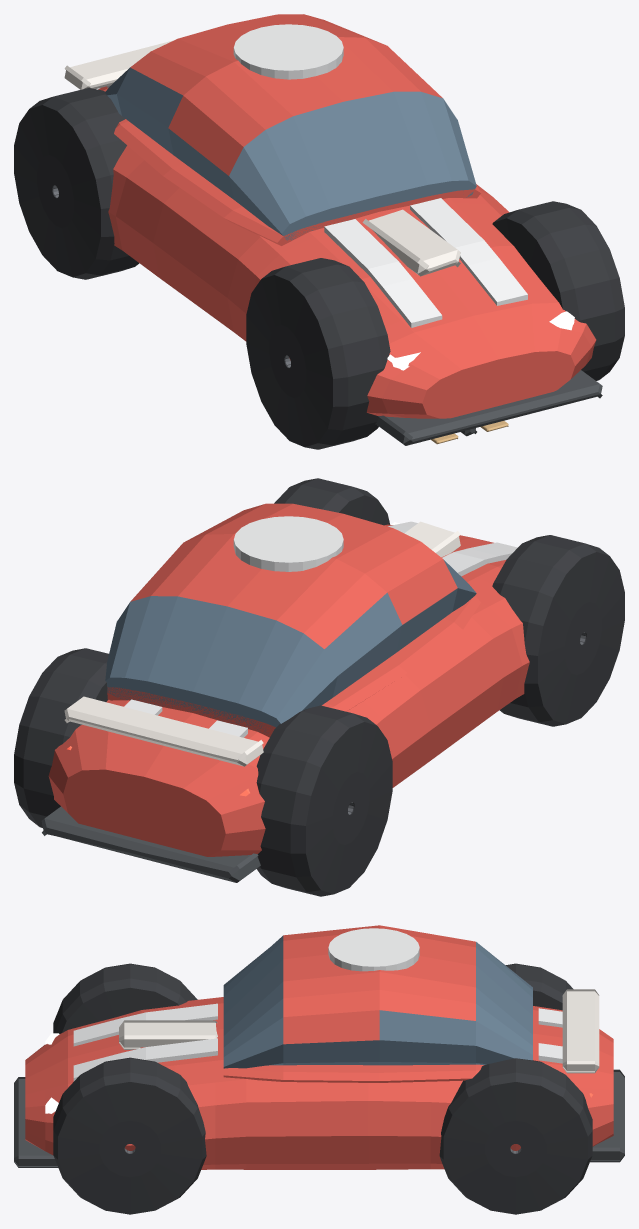
Rendered from toy-car-starter.glb.
3 views of the same model, one above another, from view 1: azimuth 30°, elevation 25°; view 2: azimuth 150°, elevation 25°; view 3: azimuth 270°, elevation 25° (orthographic). The views are drawn at different scales.
Visible parts, largest first — view 1: toy-car-starter-canopy, toy-car-starter-body, wheel-front-left, wheel-rear-left, wheel-front-right, toy-car-starter-beltline, toy-car-starter-glyph, toy-car-starter-splitter, toy-car-starter-stripe-hood-left, toy-car-starter-stripe-hood-right, toy-car-starter-hood-scoop, toy-car-starter-lip-spoiler; view 2: toy-car-starter-canopy, toy-car-starter-body, wheel-rear-left, wheel-front-left, wheel-rear-right, toy-car-starter-beltline, toy-car-starter-lip-spoiler, toy-car-starter-glyph, toy-car-starter-diffuser, wheel-front-right, toy-car-starter-stripe-hood-left, toy-car-starter-hood-scoop; view 3: toy-car-starter-canopy, toy-car-starter-body, wheel-front-right, wheel-rear-right, wheel-front-left, toy-car-starter-beltline, toy-car-starter-glyph, toy-car-starter-lip-spoiler, toy-car-starter-hood-scoop, toy-car-starter-stripe-hood-left, toy-car-starter-stripe-hood-right, toy-car-starter-splitter (+4 smaller).
Boxes of the visible parts, left/top/right/bottom form: toy-car-starter-canopy: left=105, top=14, right=476, bottom=240; toy-car-starter-body: left=98, top=86, right=596, bottom=418; wheel-front-left: left=246, top=258, right=390, bottom=449; wheel-rear-left: left=14, top=88, right=139, bottom=279; wheel-front-right: left=492, top=201, right=624, bottom=380; toy-car-starter-beltline: left=114, top=119, right=480, bottom=245; toy-car-starter-glyph: left=233, top=24, right=343, bottom=79; toy-car-starter-splitter: left=375, top=370, right=602, bottom=445; toy-car-starter-stripe-hood-left: left=324, top=219, right=442, bottom=327; toy-car-starter-stripe-hood-right: left=410, top=198, right=527, bottom=305; toy-car-starter-hood-scoop: left=362, top=209, right=460, bottom=276; toy-car-starter-lip-spoiler: left=64, top=40, right=173, bottom=89; toy-car-starter-canopy: left=105, top=503, right=476, bottom=733; toy-car-starter-body: left=48, top=524, right=529, bottom=856; wheel-rear-left: left=256, top=705, right=392, bottom=896; wheel-front-left: left=492, top=535, right=624, bottom=726; wheel-rear-right: left=14, top=648, right=108, bottom=827; toy-car-starter-beltline: left=107, top=596, right=480, bottom=737; toy-car-starter-lip-spoiler: left=64, top=696, right=263, bottom=766; toy-car-starter-glyph: left=233, top=516, right=343, bottom=571; toy-car-starter-diffuser: left=41, top=806, right=260, bottom=882; wheel-front-right: left=274, top=478, right=390, bottom=525; toy-car-starter-stripe-hood-left: left=442, top=542, right=517, bottom=576; toy-car-starter-hood-scoop: left=404, top=521, right=460, bottom=557; toy-car-starter-canopy: left=223, top=925, right=532, bottom=1068; toy-car-starter-body: left=25, top=997, right=613, bottom=1169; wheel-front-right: left=53, top=1057, right=206, bottom=1214; wheel-rear-right: left=439, top=1058, right=592, bottom=1214; wheel-front-left: left=53, top=963, right=197, bottom=1033; toy-car-starter-beltline: left=223, top=1064, right=483, bottom=1082; toy-car-starter-glyph: left=328, top=928, right=419, bottom=971; toy-car-starter-lip-spoiler: left=562, top=989, right=599, bottom=1073; toy-car-starter-hood-scoop: left=119, top=1020, right=217, bottom=1049; toy-car-starter-stripe-hood-left: left=73, top=1003, right=217, bottom=1046; toy-car-starter-stripe-hood-right: left=73, top=1038, right=217, bottom=1081; toy-car-starter-splitter: left=14, top=1077, right=58, bottom=1167.
Size of the model in its own units: 1 by 0.826 by 2.16.
